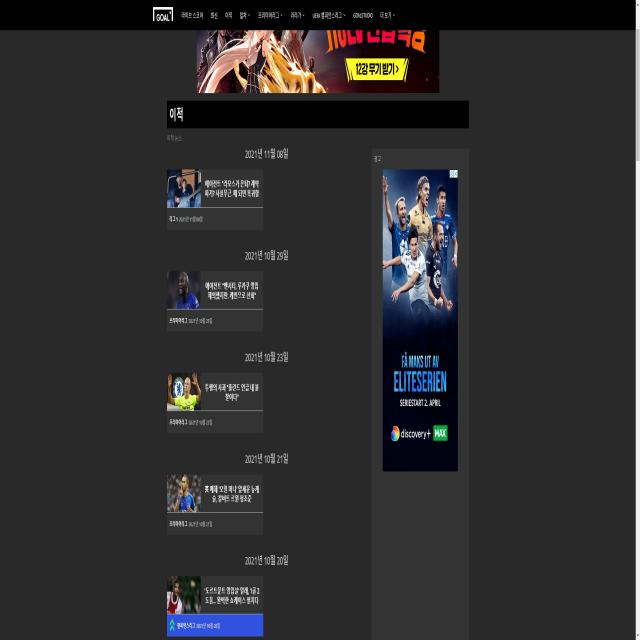menu-bar: (180, 6, 396, 24)
